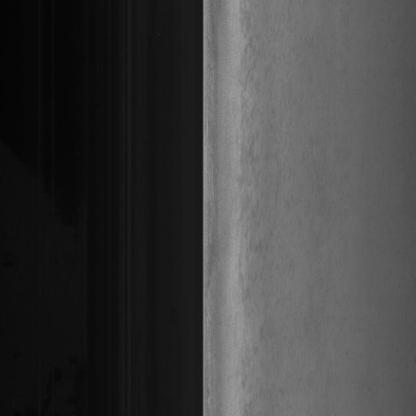silk_spot: (245, 165, 277, 266)
